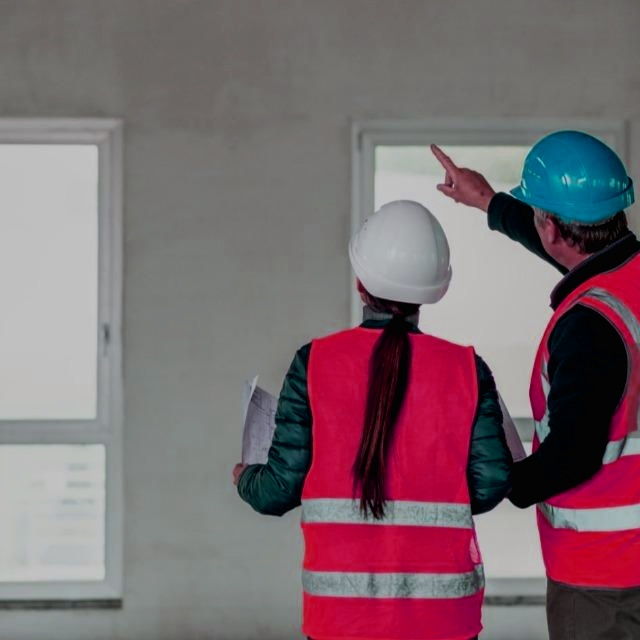Con_Casco: (510, 129, 634, 260), (345, 200, 454, 323)
Con_Chaleco: (292, 323, 487, 640), (536, 257, 640, 586)
